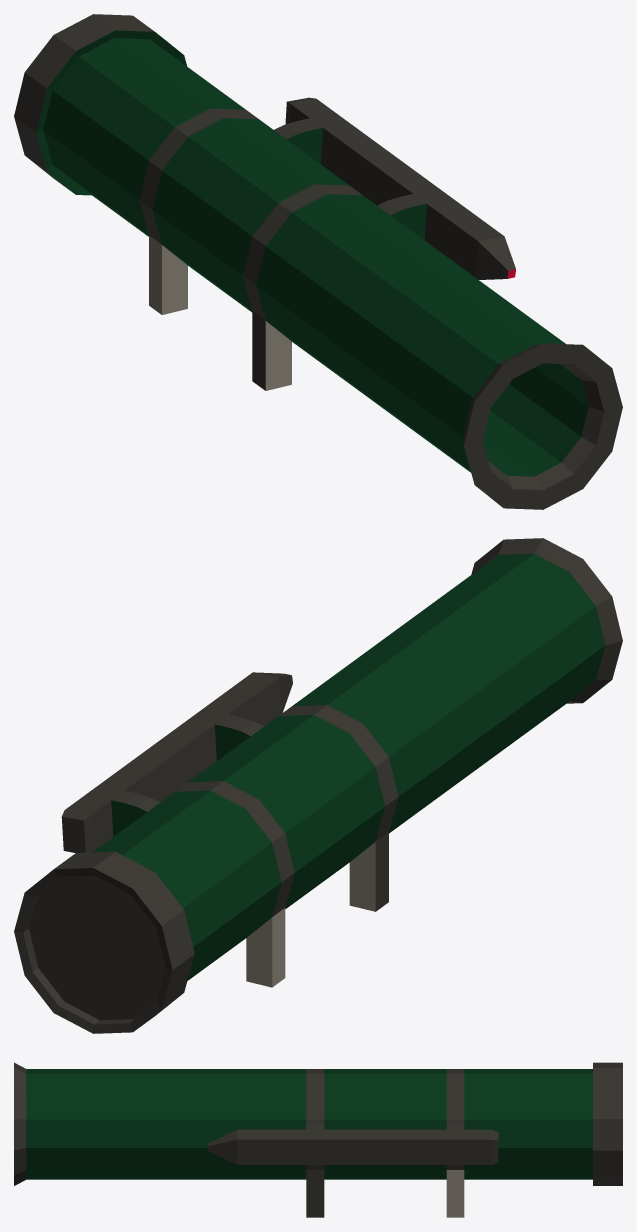
Rendered from Launcher.fbx.
3 renders of one model, top to bottom at view 1: azimuth 30°, elevation 25°; view 2: azimuth 150°, elevation 25°; view 3: azimuth 270°, elevation 25°, orthographic. The views are drawn at different scales.
Visible parts, largest first — view 1: Launcher; view 2: Launcher; view 3: Launcher.
Boxes of the visible parts, <box> form: Launcher: <box>14,14,622,509</box>; Launcher: <box>14,538,622,1033</box>; Launcher: <box>14,1062,622,1217</box>.
Size of the model in its own units: 0.3886 by 0.3449 by 1.47.
